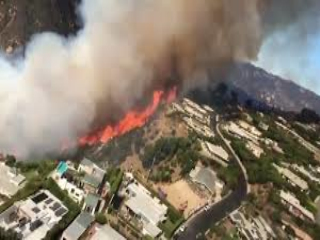fire: (74, 94, 186, 148)
smoke: (68, 3, 269, 94)
